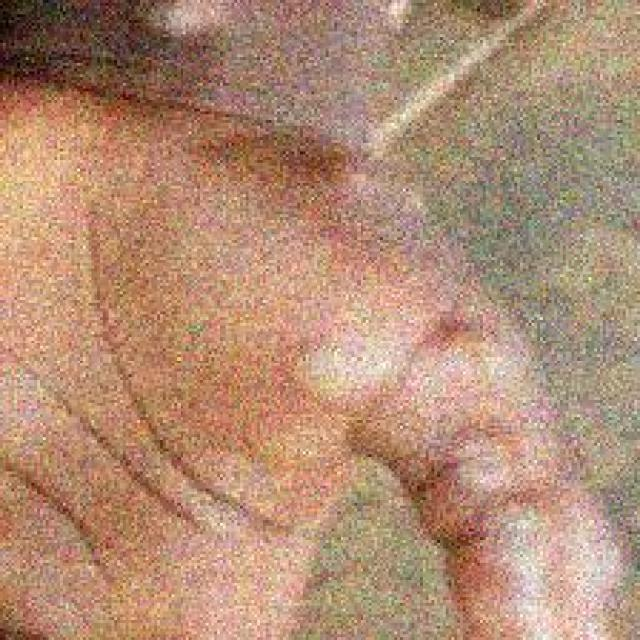monkeypox: (3, 5, 623, 640)
